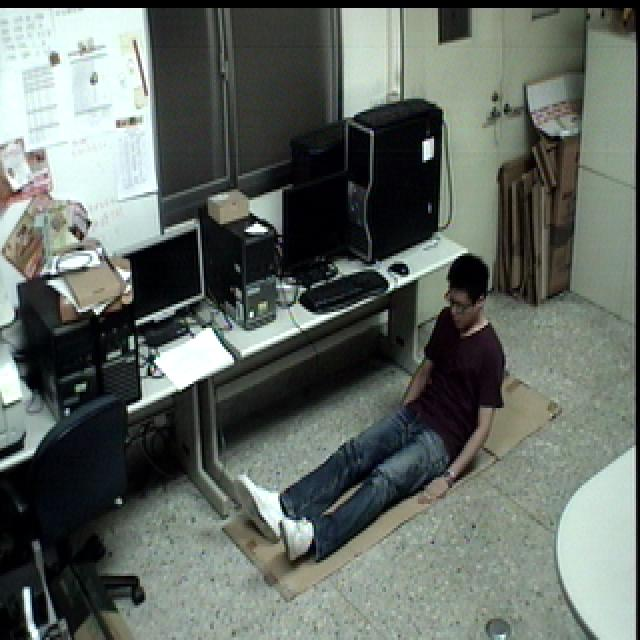sit: (230, 239, 519, 571)
